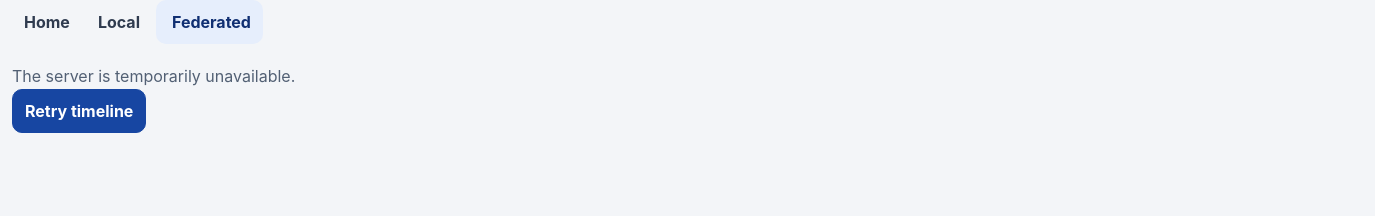
Test case: Timeline › retries one failed request only after user activation
Expected: the message reads "The server is temporarily unavailable.", 12,66 -> 295,86
Click the button "Retry timeline". click: x=79, y=111
box: 12,89 -> 146,133
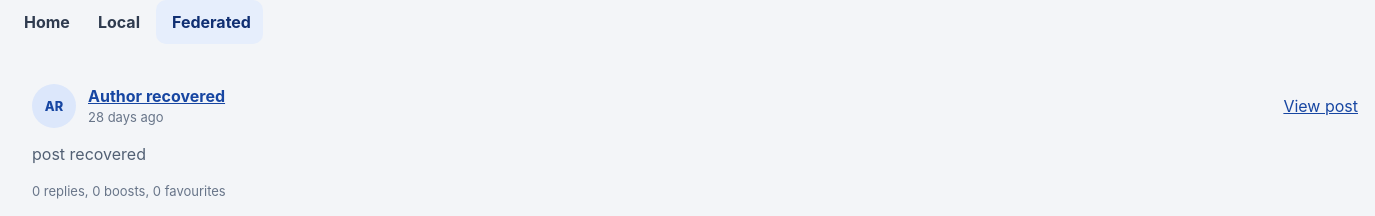
Now the text "post recovered" is shown, box 32,144 -> 146,164
